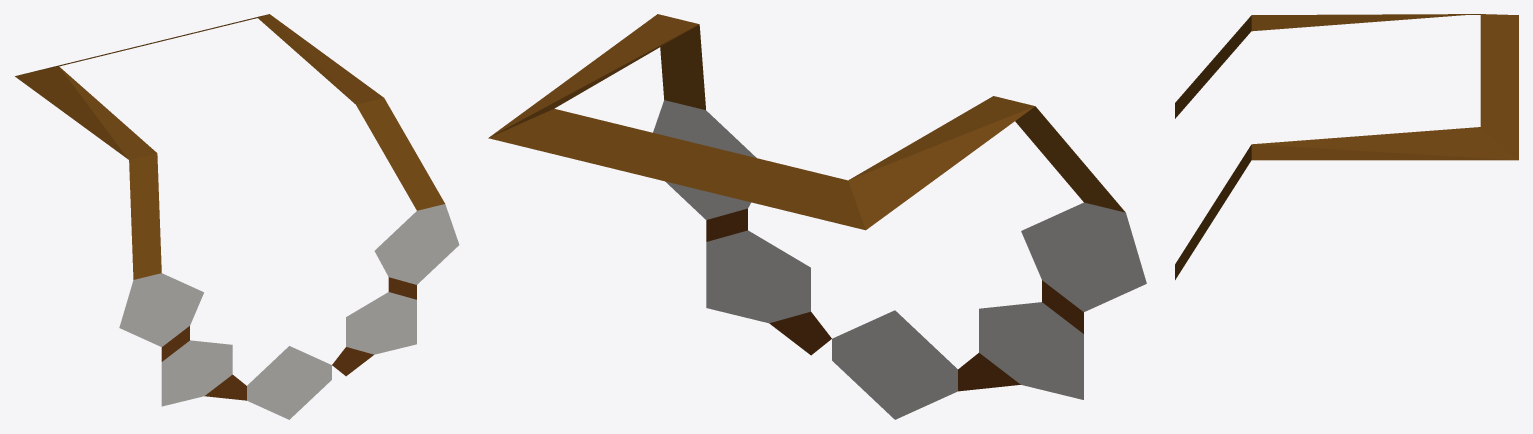
The model's file is model_285_obj_wear.obj.
3 views of the same model, side by side, from view 1: azimuth 30°, elevation 25°; view 2: azimuth 150°, elevation 25°; view 3: azimuth 270°, elevation 25° (orthographic). The views are drawn at different scales.
Visible parts, largest first — view 1: 285; view 2: 285; view 3: 285.
Boxes of the visible parts, x1,y1,x2,y2 form: 285: (15, 14, 459, 419); 285: (488, 14, 1146, 419); 285: (1175, 14, 1518, 279).
Bounding box in the file's own units: 24 × 19 × 18.
